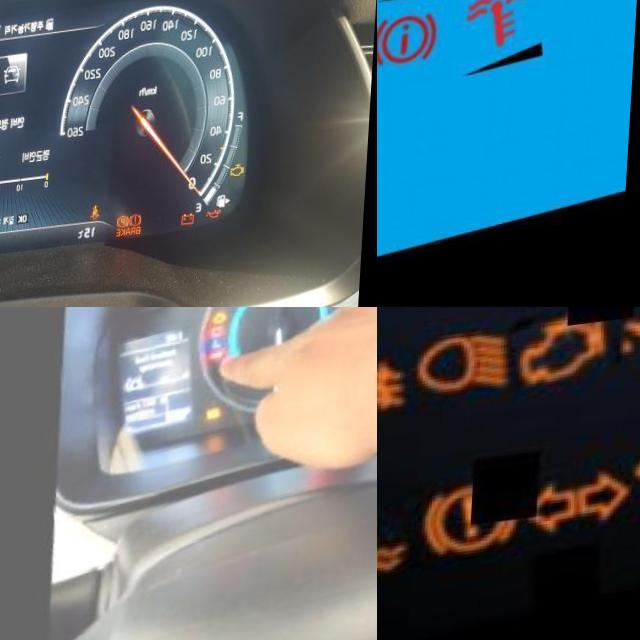Engine cooling system: (209, 338, 223, 355)
